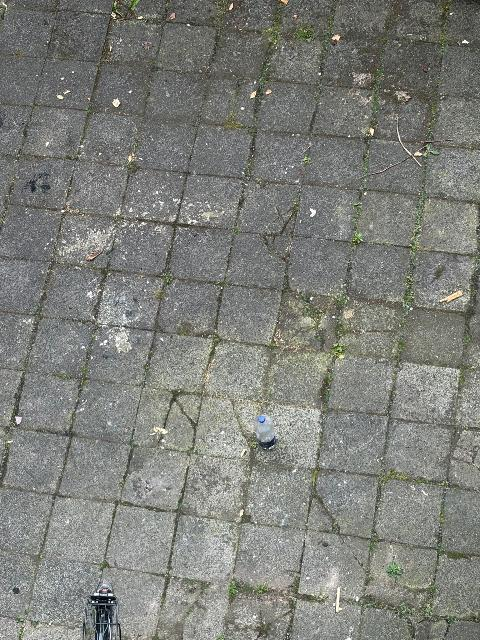plastic_bottle: (255, 414, 277, 450)
